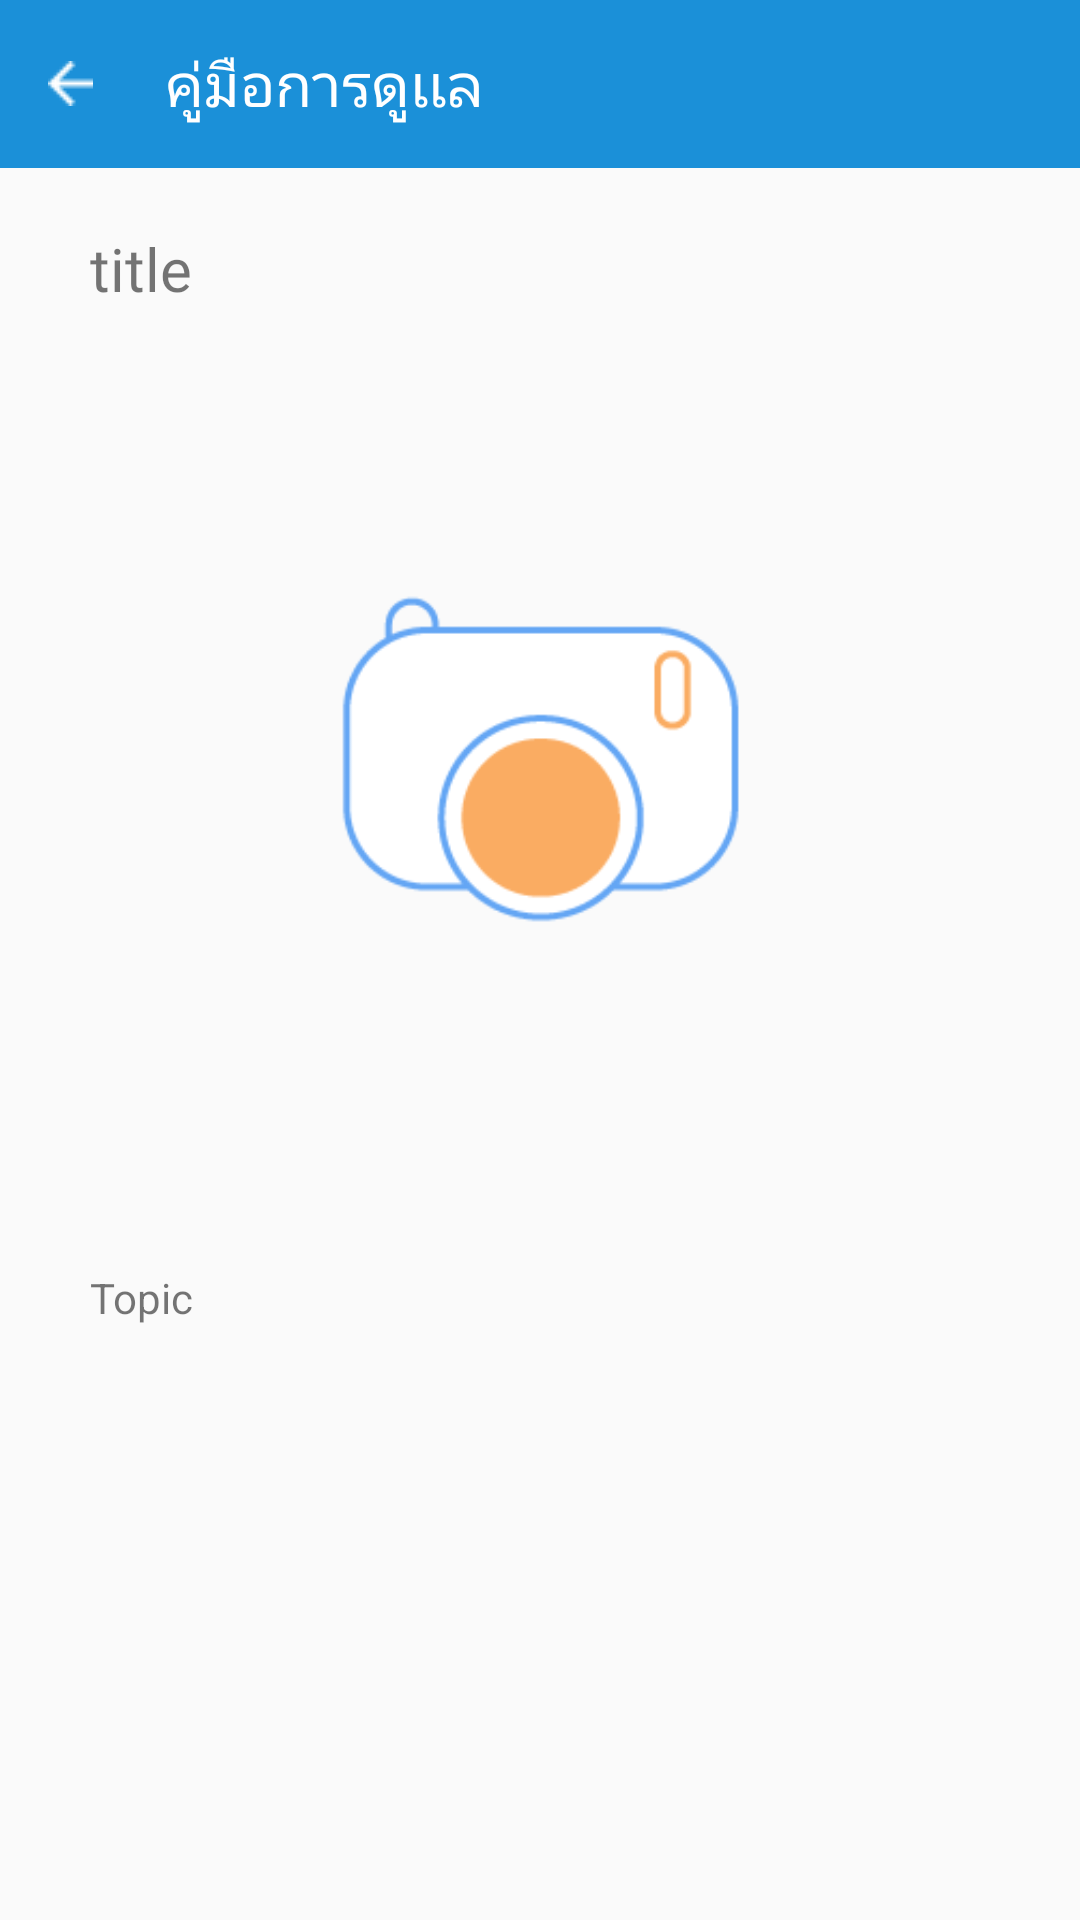

Icon click points for this 1080x1920 phone screenshot, format (x,y):
go back: (70,83)
